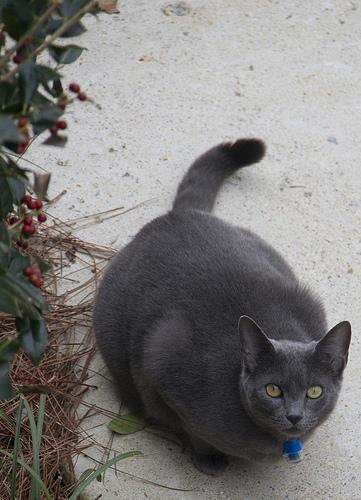cat-Russian_Blue: (237, 313, 349, 436)
